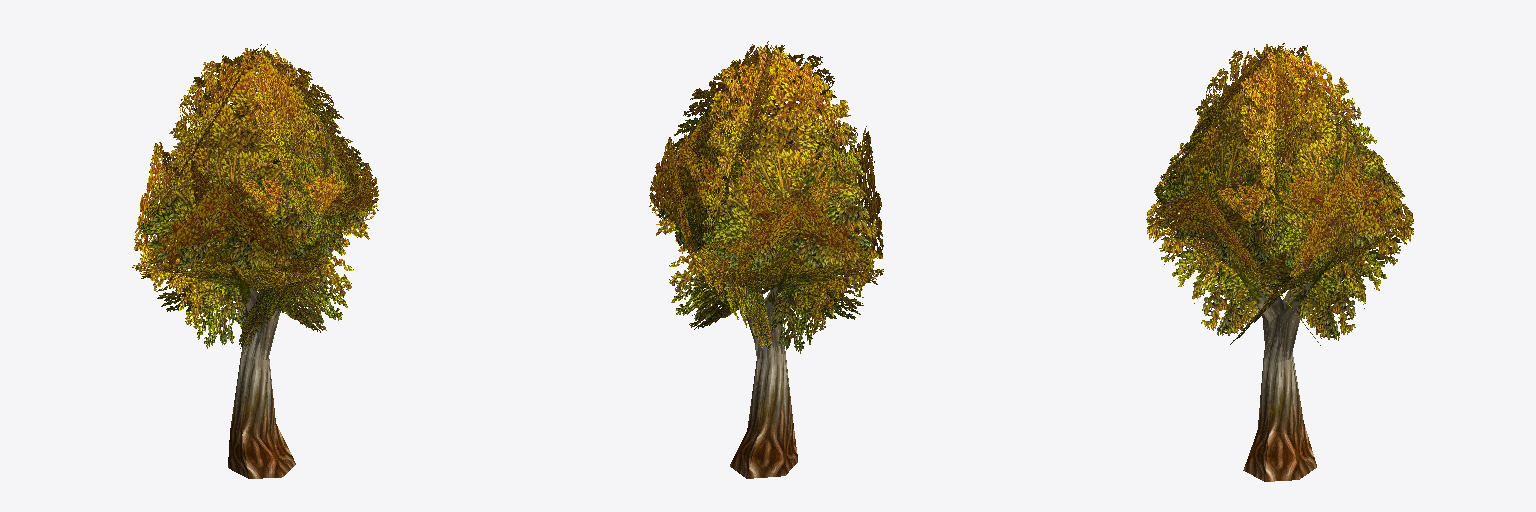
3 views of the same model, side by side, from view 1: azimuth 30°, elevation 25°; view 2: azimuth 150°, elevation 25°; view 3: azimuth 270°, elevation 25° (orthographic).
Visible parts, largest first — view 1: object 1; view 2: object 1; view 3: object 1.
Part boxes in pixels (left/top/right/bottom): object 1: left=132, top=44, right=378, bottom=478; object 1: left=649, top=41, right=883, bottom=478; object 1: left=1146, top=43, right=1413, bottom=481.
Size of the model in its own units: 52.67 by 82.9 by 50.97.
3 materials, 3 textured.